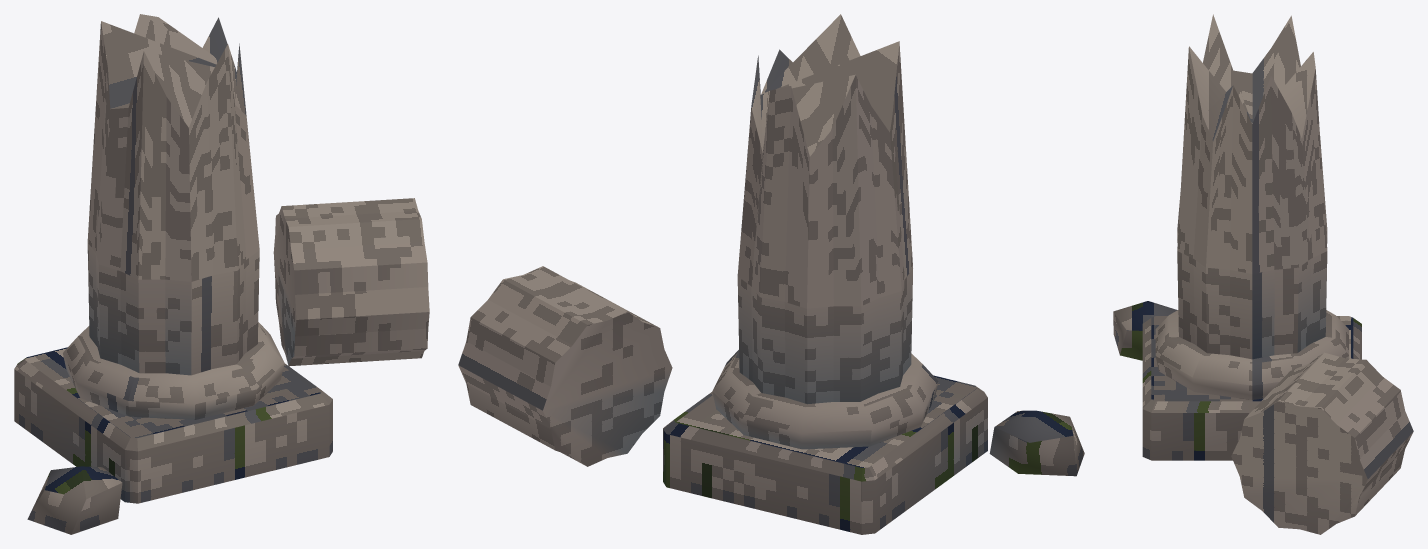
The model's file is tmpl.column__broken.glb.
3 renders of one model, left to right at view 1: azimuth 30°, elevation 25°; view 2: azimuth 150°, elevation 25°; view 3: azimuth 270°, elevation 25°, orthographic. The views are drawn at different scales.
Visible parts, largest first — view 1: kit_shaft, kit_base, kit_fallen; view 2: kit_shaft, kit_base, kit_fallen; view 3: kit_shaft, kit_fallen, kit_base.
Part boxes in pixels (bbox=[...]): kit_shaft: bbox=[87, 14, 259, 375]; kit_base: bbox=[14, 322, 332, 503]; kit_fallen: bbox=[27, 198, 429, 534]; kit_shaft: bbox=[737, 14, 912, 404]; kit_base: bbox=[663, 350, 987, 534]; kit_fallen: bbox=[458, 266, 1084, 476]; kit_shaft: bbox=[1177, 14, 1327, 359]; kit_fallen: bbox=[1113, 301, 1413, 534]; kit_base: bbox=[1142, 310, 1361, 460].
Bounding box in the file's own units: 2.96 × 2.37 × 1.71.
2 materials, 2 textured.
